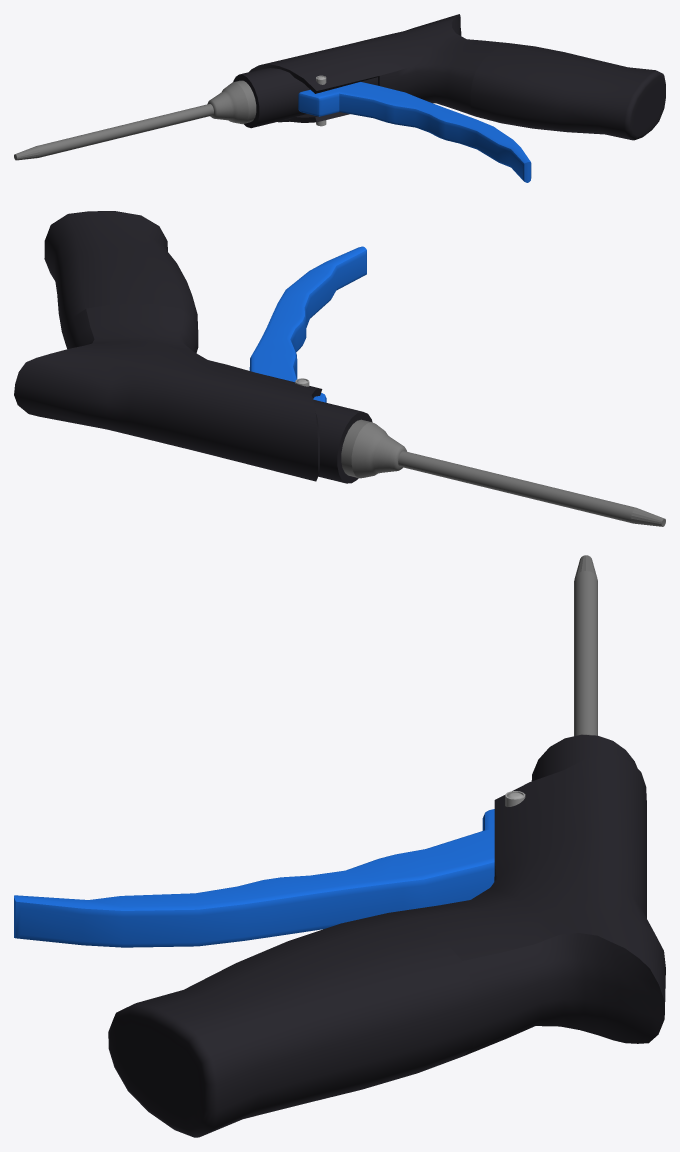
The model's file is Air_gun.fbx.
The picture shows the model from 3 angles, top to bottom: view 1: azimuth 30°, elevation 25°; view 2: azimuth 150°, elevation 25°; view 3: azimuth 270°, elevation 25°; orthographic projection. The views are drawn at different scales.
Visible parts, largest first — view 1: base, handle, group1Drill8polySurface2, needle; view 2: base, handle, group1Drill8polySurface2, needle; view 3: base, handle, needle, group1Drill8polySurface2.
Boxes of the visible parts, x1,y1,x2,y2 form: base: (249, 14, 665, 140); handle: (298, 82, 531, 182); group1Drill8polySurface2: (207, 68, 377, 128); needle: (14, 104, 213, 160); base: (14, 211, 322, 481); handle: (249, 246, 366, 402); group1Drill8polySurface2: (313, 399, 406, 483); needle: (398, 451, 665, 526); base: (108, 754, 665, 1137); handle: (14, 809, 494, 947); needle: (574, 555, 597, 736); group1Drill8polySurface2: (531, 734, 637, 781).
Size of the model in its own units: 4.33 by 0.4375 by 2.22.
